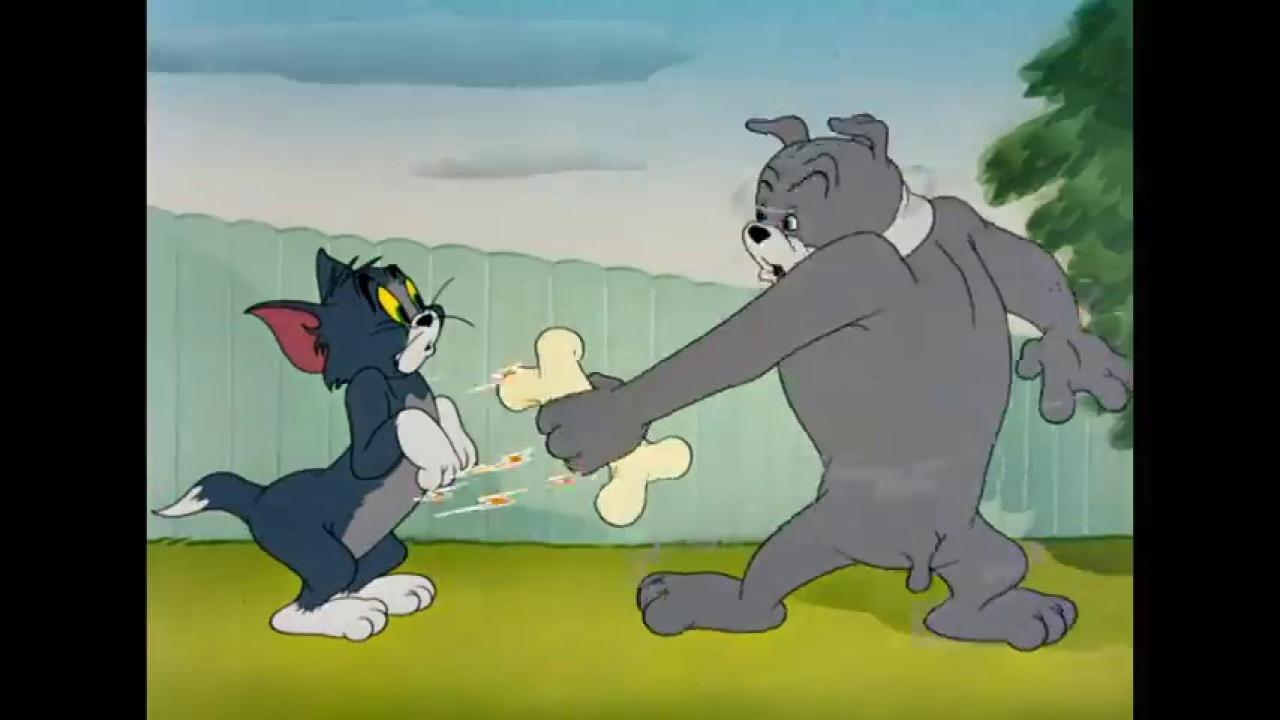Tom: (152, 242, 481, 643)
